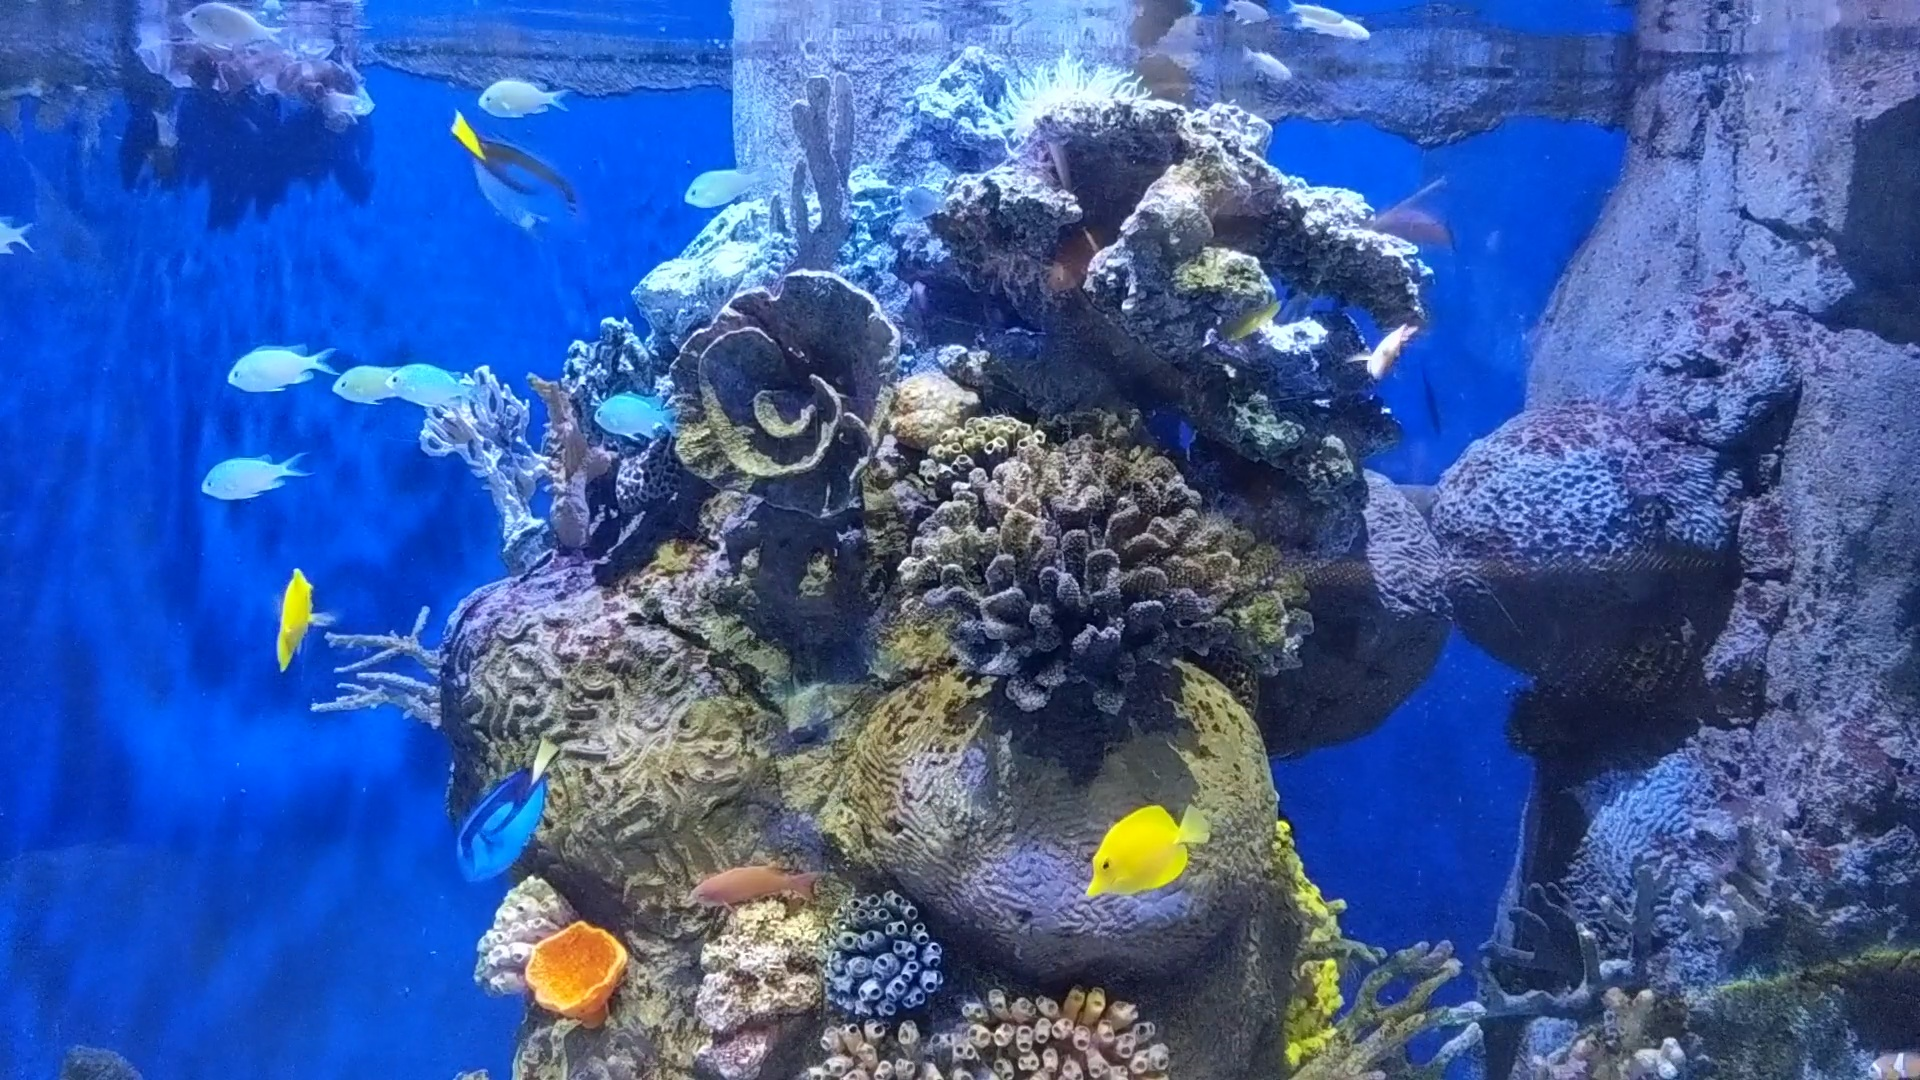blue tang surgeonfish: (434, 109, 596, 247), (444, 732, 556, 880)
damselfish: (380, 352, 495, 411), (585, 384, 688, 446), (462, 61, 556, 125), (186, 452, 305, 504), (674, 152, 771, 214), (216, 344, 324, 398), (322, 348, 392, 410)
pink fish: (1352, 305, 1428, 380)
saddle butterfly fish: (1065, 794, 1203, 901), (244, 545, 332, 684)
